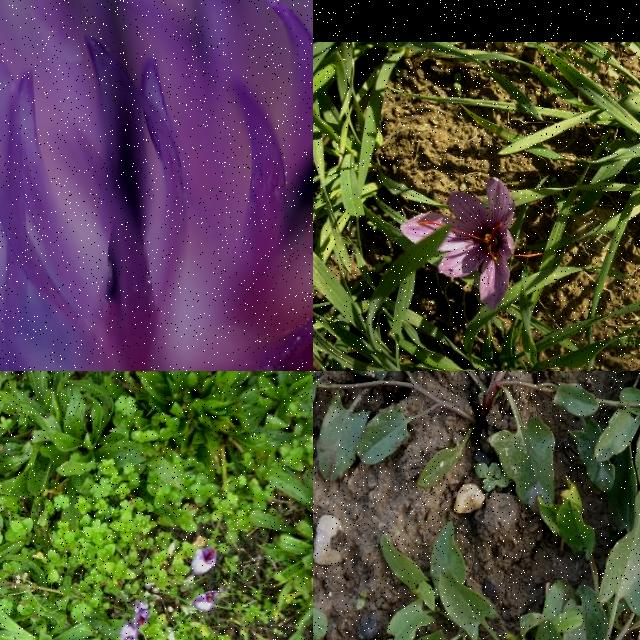flower: (399, 176, 547, 312), (192, 546, 216, 578), (194, 591, 218, 613)
overlap: (120, 601, 149, 640)
